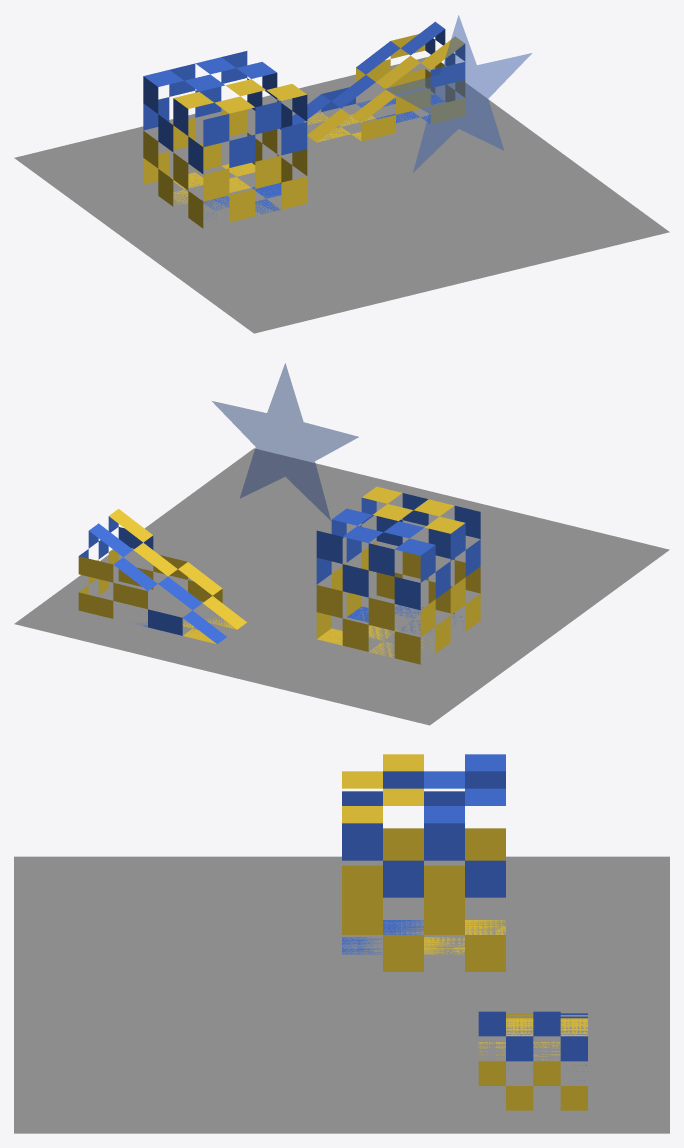
Rendered from shapes.obj.
The picture shows the model from 3 angles, top to bottom: view 1: azimuth 30°, elevation 25°; view 2: azimuth 150°, elevation 25°; view 3: azimuth 270°, elevation 25°; orthographic projection. The views are drawn at different scales.
Visible parts, largest first — view 1: floor, box, wedge; view 2: floor, box, wedge; view 3: floor, box, wedge.
Boxes of the visible parts, box(x1,y1,x2,y2) form: floor: box(14, 57, 669, 333); box: box(143, 15, 531, 228); wedge: box(292, 21, 465, 142); floor: box(14, 448, 669, 725); box: box(212, 363, 480, 664); wedge: box(78, 509, 246, 644); floor: box(14, 856, 669, 1133); box: box(342, 754, 505, 971); wedge: box(478, 1011, 587, 1110).
Size of the model in its own units: 2.4 by 1 by 2.4.
Materials: 3 (1 with a texture image).
